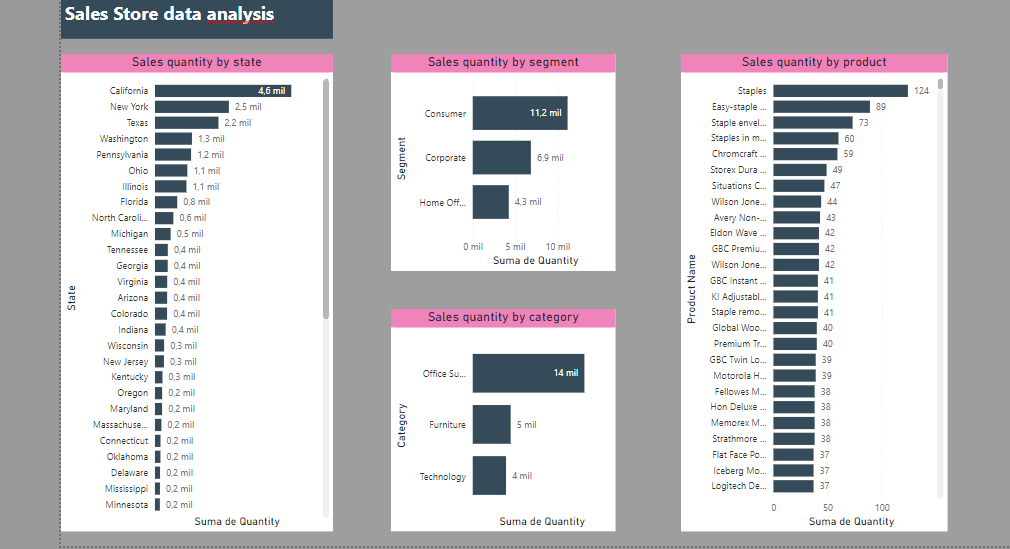

The page's visual inventory and layout, read from the dashboard file:
{"tool":"powerbi","page":{"name":"Página 1","canvas":[1280,720],"ordinal":0},"visuals":[{"type":"clusteredBarChart","title":"Sales quantity by state","fields":{"Y":["Sum(Table1.Quantity)"],"Category":["Table1.State"]},"box":[60.6,96,355.9,624.7],"z":0},{"type":"clusteredBarChart","title":"Sales quantity by segment","fields":{"Y":["Sum(Table1.Quantity)"],"Category":["Table1.Segment"]},"box":[491.8,96,293.9,283.6],"z":1},{"type":"clusteredBarChart","title":"Sales quantity by category","fields":{"Y":["Sum(Table1.Quantity)"],"Category":["Table1.Category"]},"box":[491.8,429.8,293.9,291],"z":2},{"type":"clusteredBarChart","title":"Sales quantity by state","fields":{"Y":["Sum(Table1.Quantity)"],"Category":["Table1.Product Name"]},"box":[871.4,96,348.6,624.7],"z":3},{"type":"textbox","box":[60.6,20.7,355.9,56.1],"z":4}]}

Visuals, with their boxes on the page's 1280x720 design canvas (x1, y1, x2, y2). These are canvas units, not pixel positions in the 1010x549 screenshot, which may show the page scaled, cropped or inside an application window:
"Sales quantity by state" clusteredBarChart: Rect(61, 96, 416, 721)
"Sales quantity by segment" clusteredBarChart: Rect(492, 96, 786, 380)
"Sales quantity by category" clusteredBarChart: Rect(492, 430, 786, 721)
"Sales quantity by state" clusteredBarChart: Rect(871, 96, 1220, 721)
textbox: Rect(61, 21, 416, 77)
